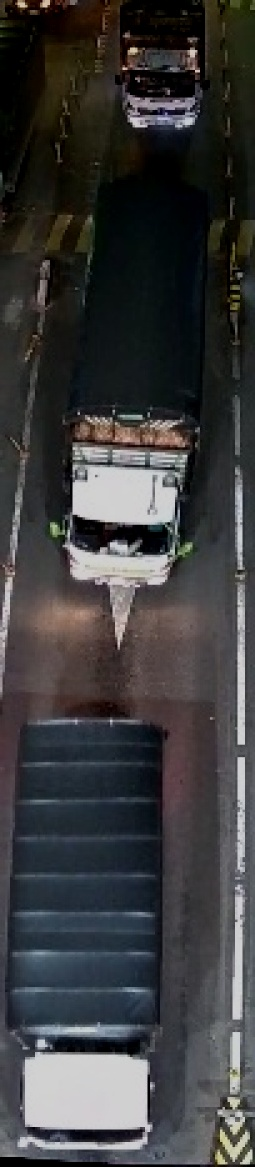truck: (45, 188, 225, 597), (8, 706, 173, 1152), (114, 2, 205, 137)
